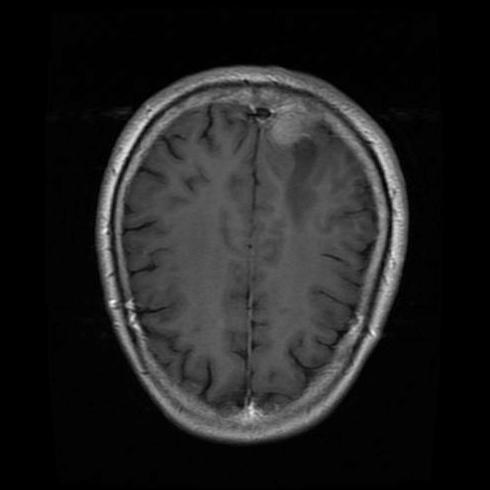Tumour-Meningioma: (243, 100, 324, 163)
